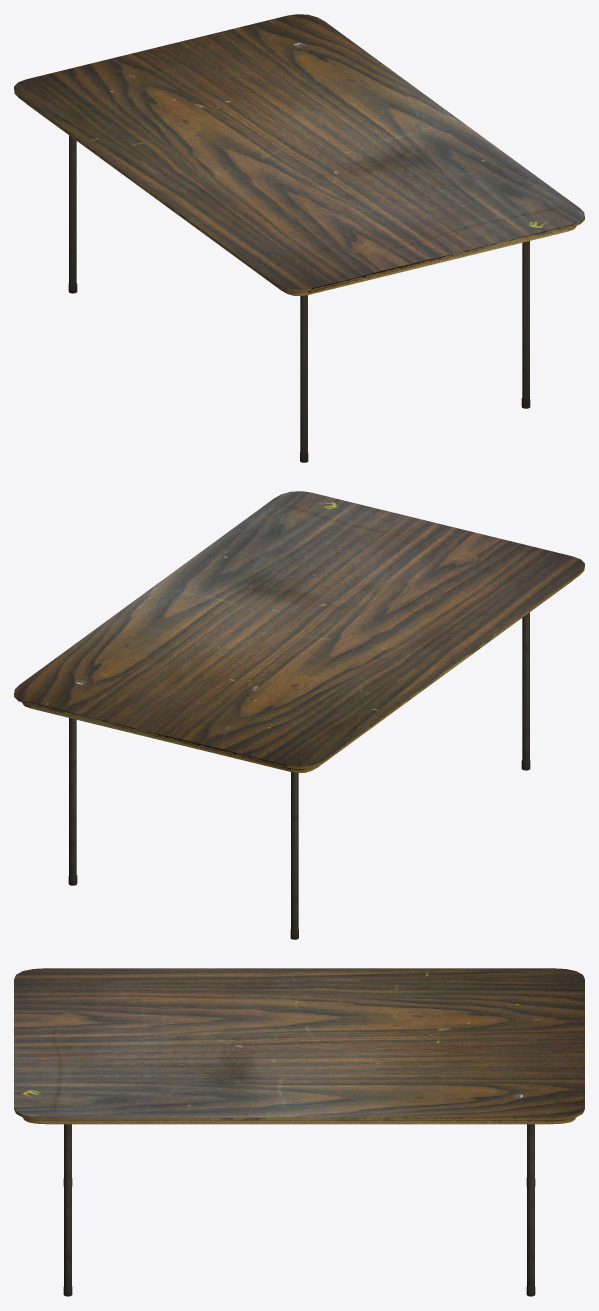
The model's file is woodenTable.FBX.
3 views of the same model, one above another, from view 1: azimuth 30°, elevation 25°; view 2: azimuth 150°, elevation 25°; view 3: azimuth 270°, elevation 25° (orthographic).
Parts seen in each view (by area): view 1: woodenTable_mesh; view 2: woodenTable_mesh; view 3: woodenTable_mesh.
Boxes of the visible parts, bbox=[...] form: woodenTable_mesh: bbox=[14, 14, 584, 462]; woodenTable_mesh: bbox=[14, 491, 584, 939]; woodenTable_mesh: bbox=[14, 968, 584, 1296].
Size of the model in its own units: 131 by 80.78 by 212.
